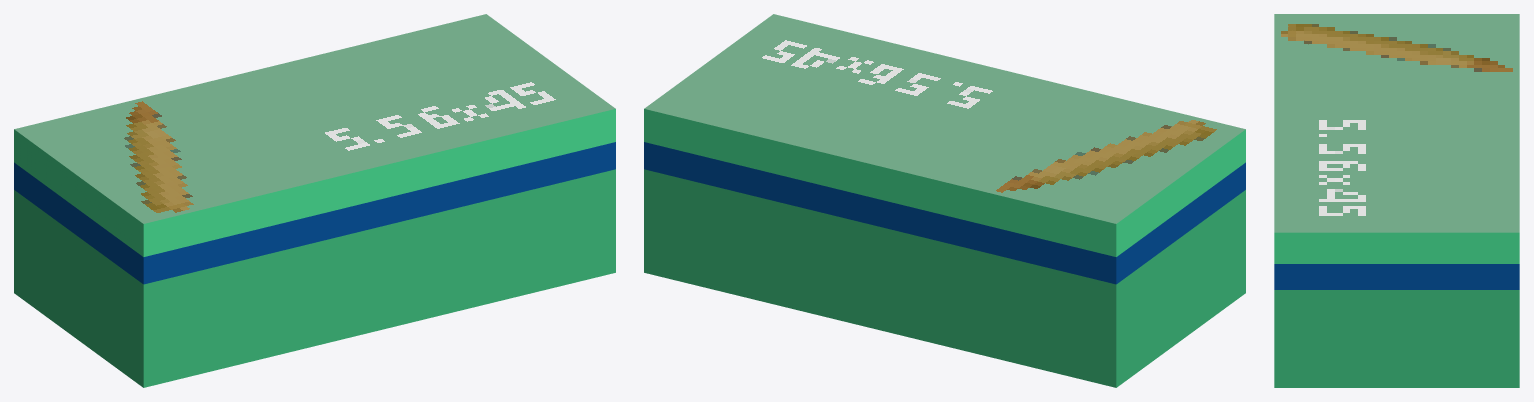
The picture shows the model from 3 angles, left to right: view 1: azimuth 30°, elevation 25°; view 2: azimuth 150°, elevation 25°; view 3: azimuth 270°, elevation 25°; orthographic projection. The views are drawn at different scales.
Visible parts, largest first — view 1: Ammo_sniper, Ammo_sniper.002; view 2: Ammo_sniper, Ammo_sniper.002; view 3: Ammo_sniper.002, Ammo_sniper.
Boxes of the visible parts, x1,y1,x2,y2 form: Ammo_sniper: (14,109,615,387); Ammo_sniper.002: (14,14,615,223); Ammo_sniper: (644,109,1245,387); Ammo_sniper.002: (644,14,1245,223); Ammo_sniper.002: (1274,14,1519,232); Ammo_sniper: (1274,232,1519,387).
Size of the model in its own units: 0.3887 by 0.1289 by 0.1846.
Materials: 2 (2 with a texture image).
